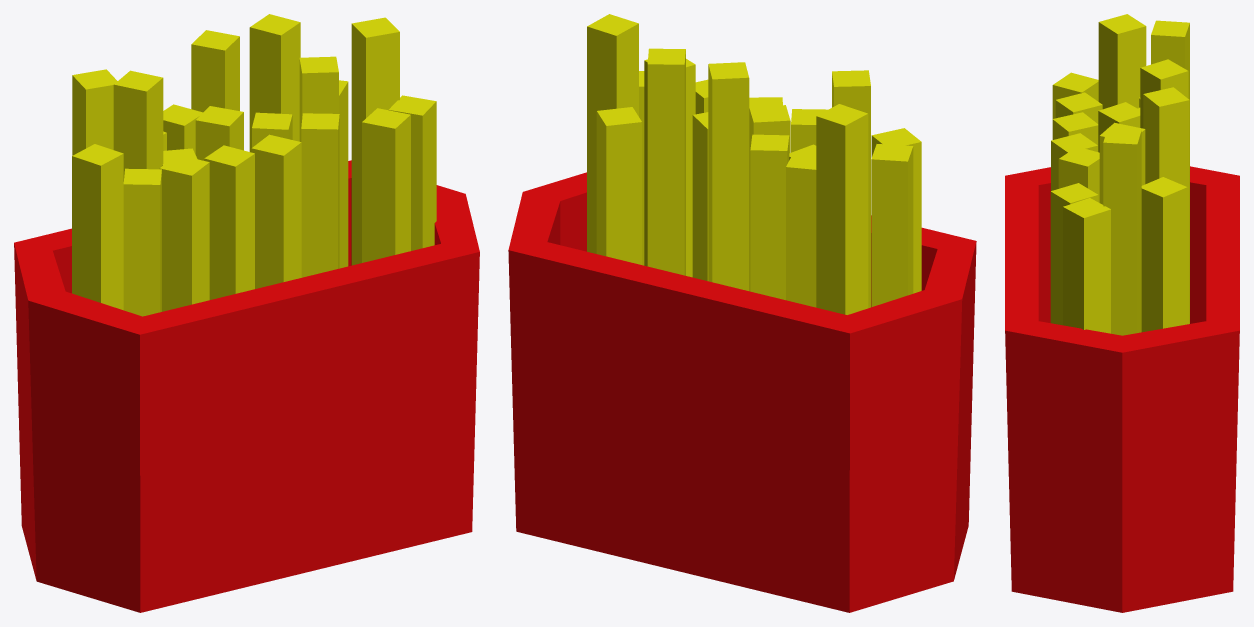
File: 4 fries.fbx
3 renders of one model, left to right at view 1: azimuth 30°, elevation 25°; view 2: azimuth 150°, elevation 25°; view 3: azimuth 270°, elevation 25°, orthographic. The views are drawn at different scales.
Parts seen in each view (by area): view 1: 4 fries; view 2: 4 fries; view 3: 4 fries.
Boxes of the visible parts, x1,y1,x2,y2 form: 4 fries: (14, 14, 479, 612); 4 fries: (508, 14, 976, 612); 4 fries: (1005, 14, 1239, 612).
Size of the model in its own units: 6.89 by 7.16 by 3.43.
